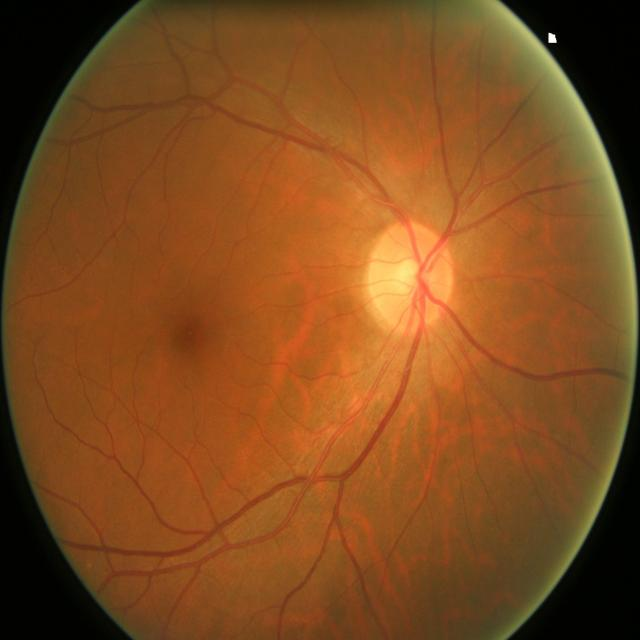OC: (394, 257, 422, 295)
OD: (369, 222, 456, 331)
